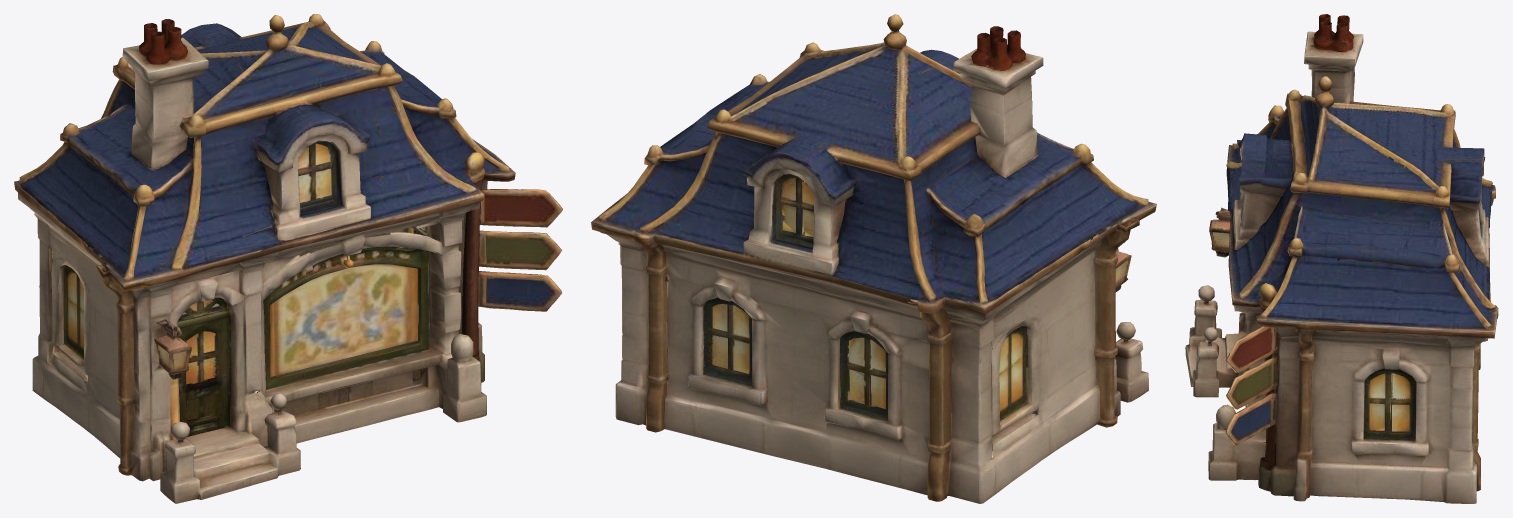
3 renders of one model, left to right at view 1: azimuth 30°, elevation 25°; view 2: azimuth 150°, elevation 25°; view 3: azimuth 270°, elevation 25°, orthographic. The views are drawn at different scales.
Visible parts, largest first — view 1: classic__junction_hub__native_mobile; view 2: classic__junction_hub__native_mobile; view 3: classic__junction_hub__native_mobile.
Boxes of the visible parts, left/top/right/bottom form: classic__junction_hub__native_mobile: left=14, top=14, right=562, bottom=503; classic__junction_hub__native_mobile: left=591, top=14, right=1156, bottom=503; classic__junction_hub__native_mobile: left=1185, top=14, right=1498, bottom=503.
Size of the model in its own units: 1 by 0.8754 by 0.6985.
Materials: 1 (1 with a texture image).
